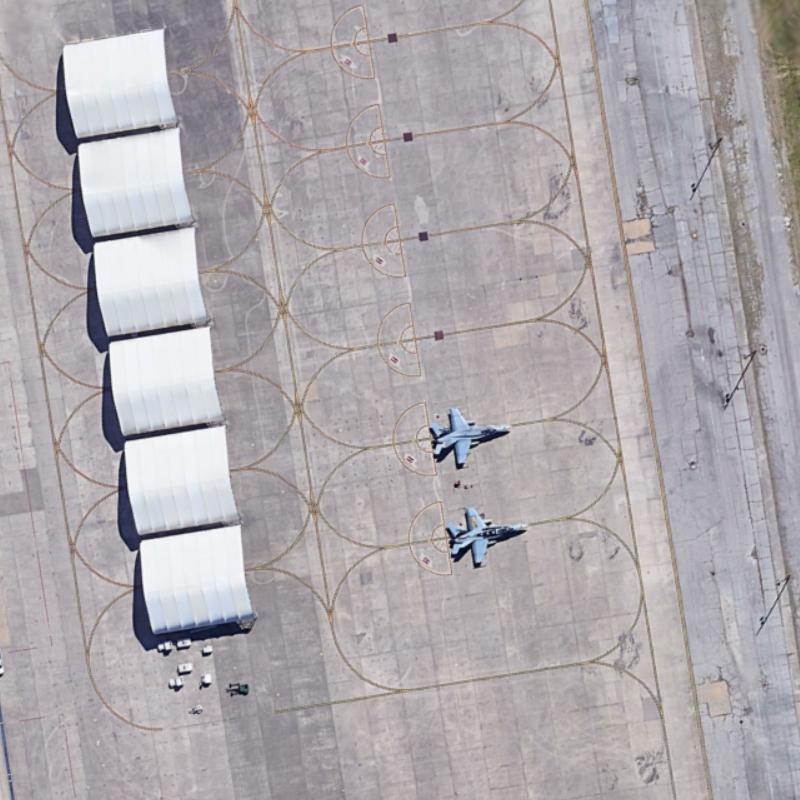A16: (438, 498, 532, 572), (426, 405, 520, 475)
